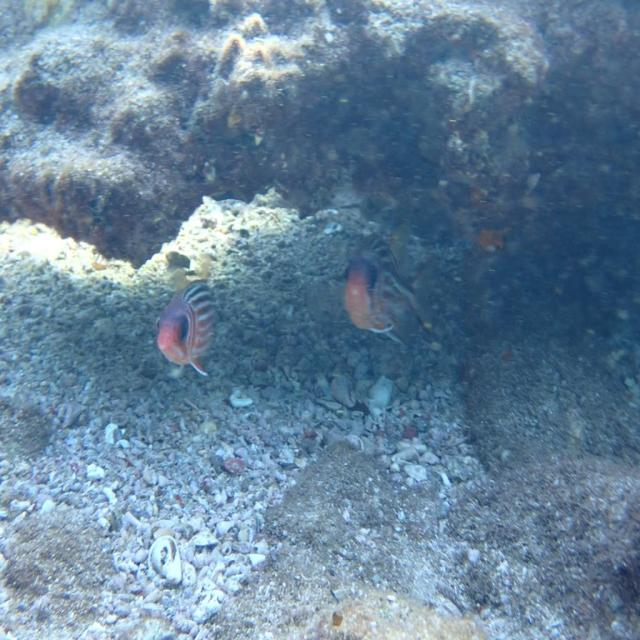Asker Baligi: (154, 278, 218, 378)
